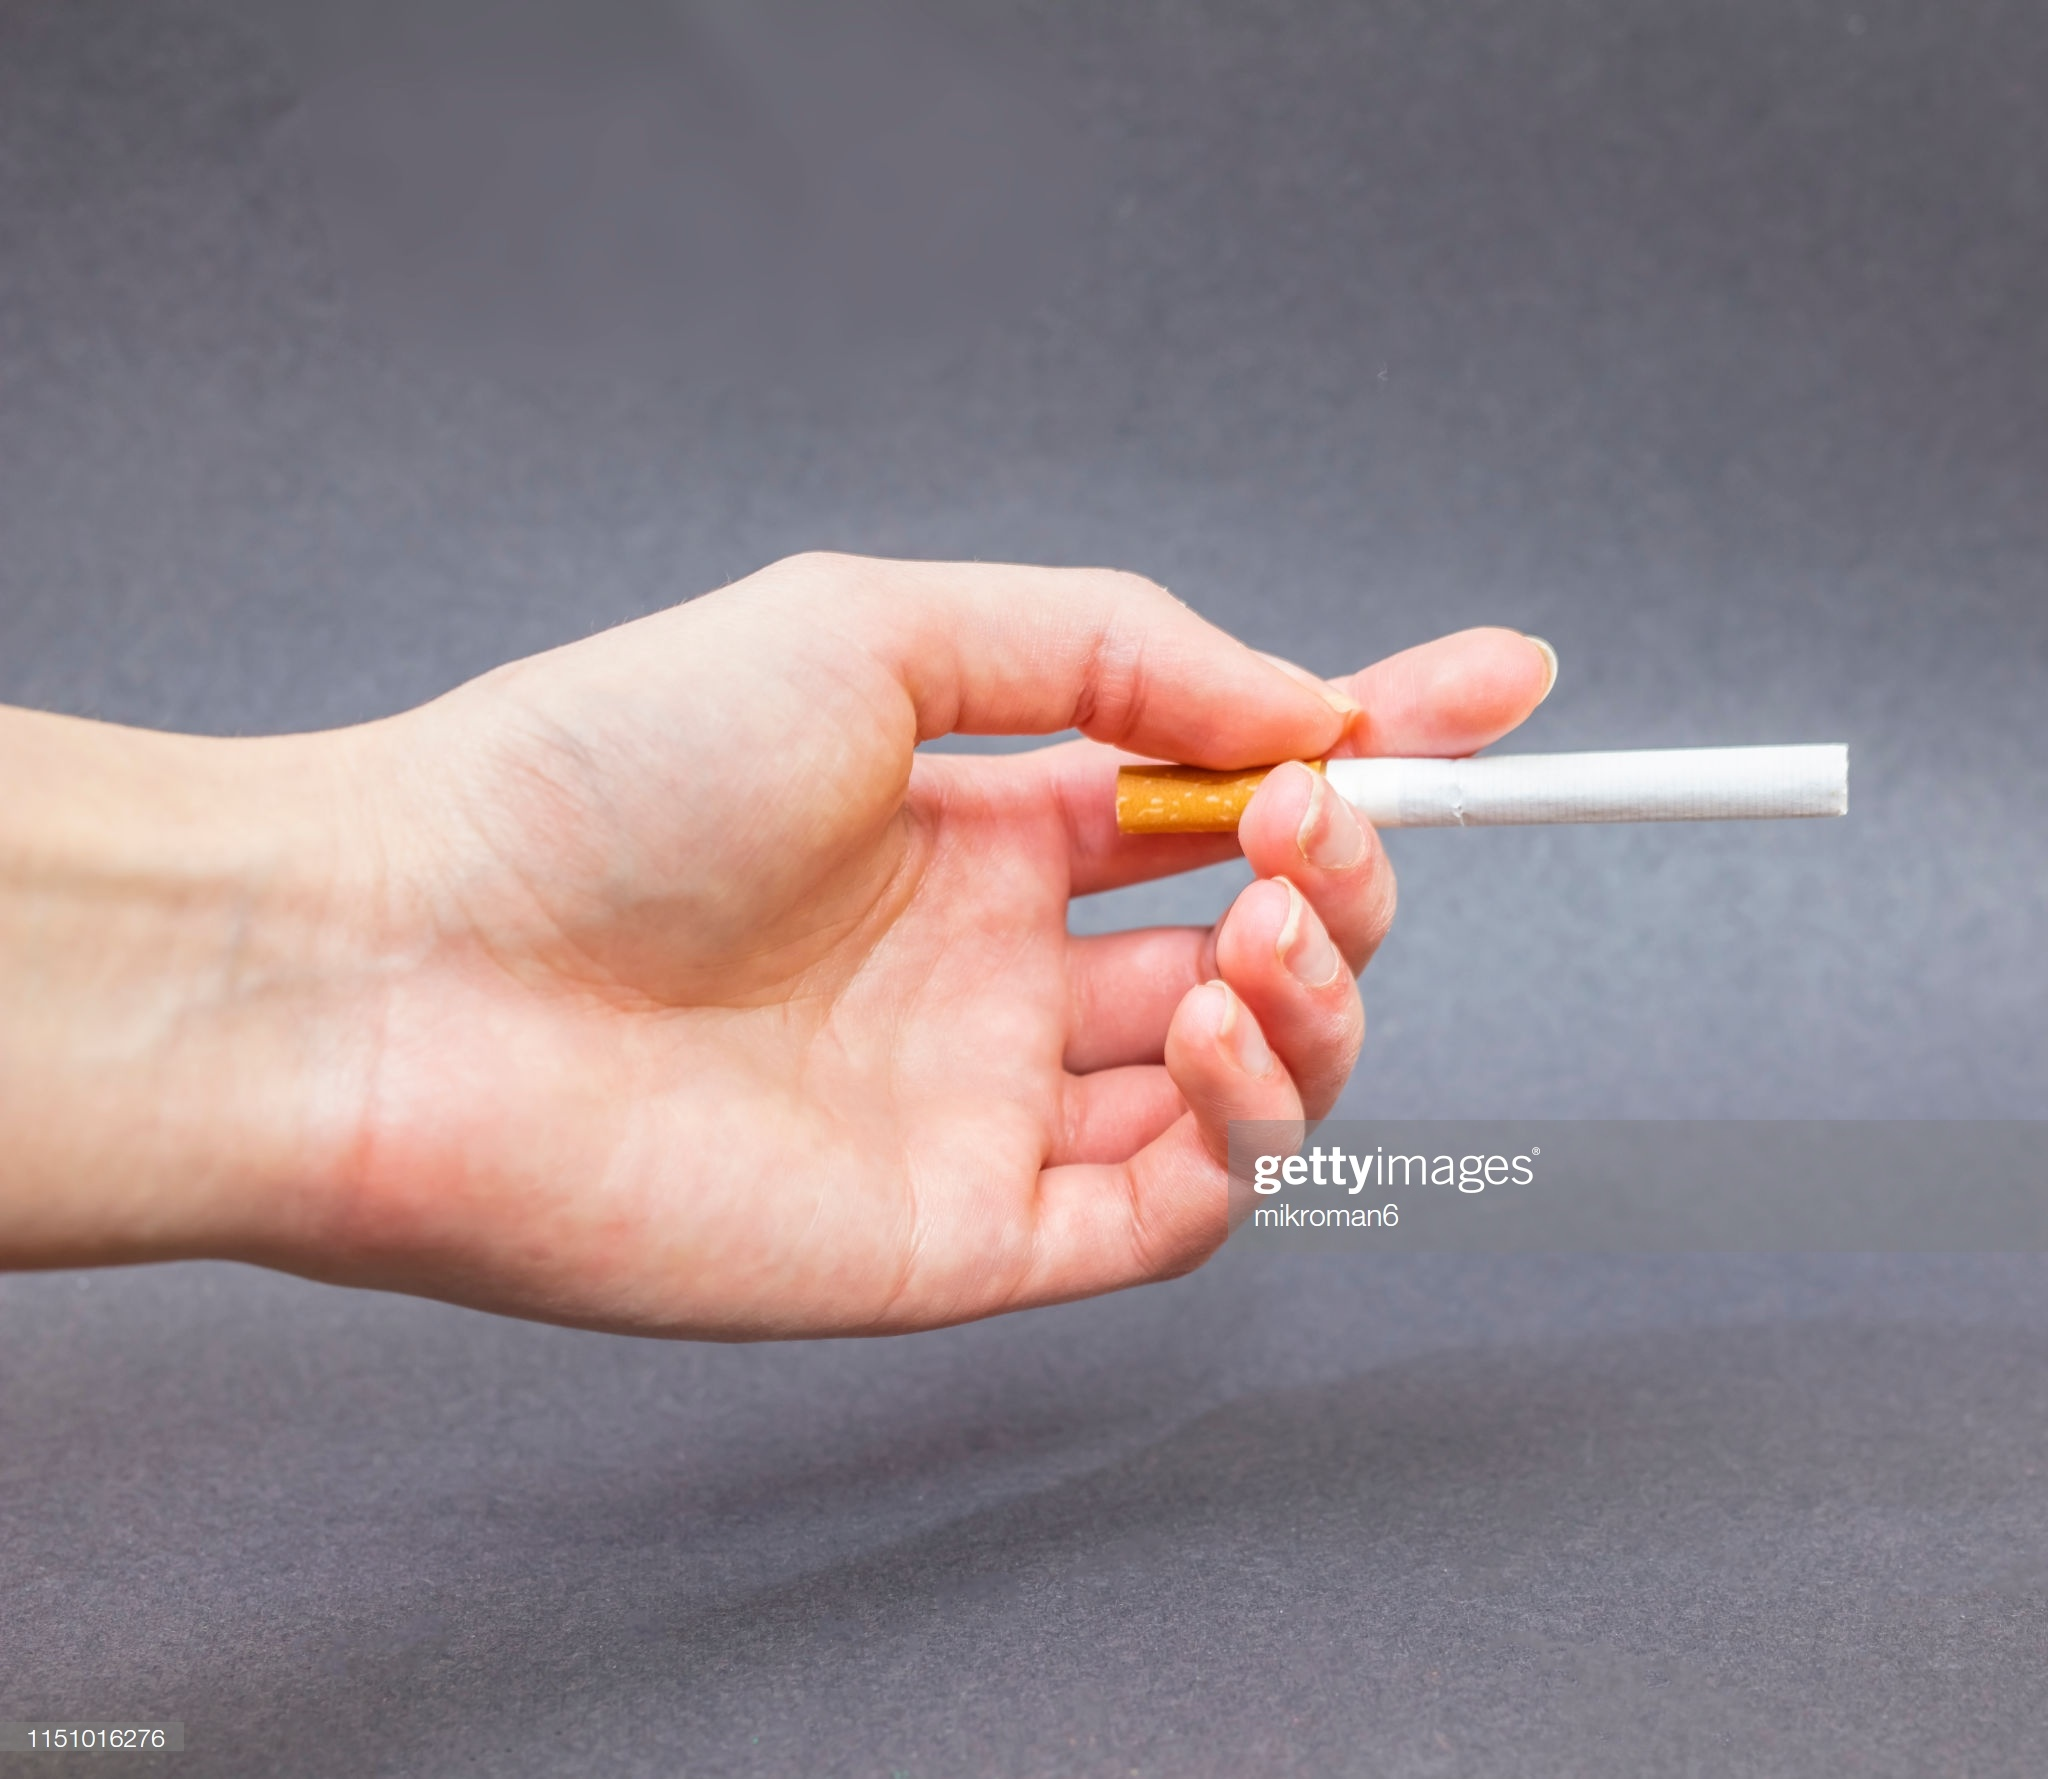sigaretta: (1099, 750, 1844, 822)
